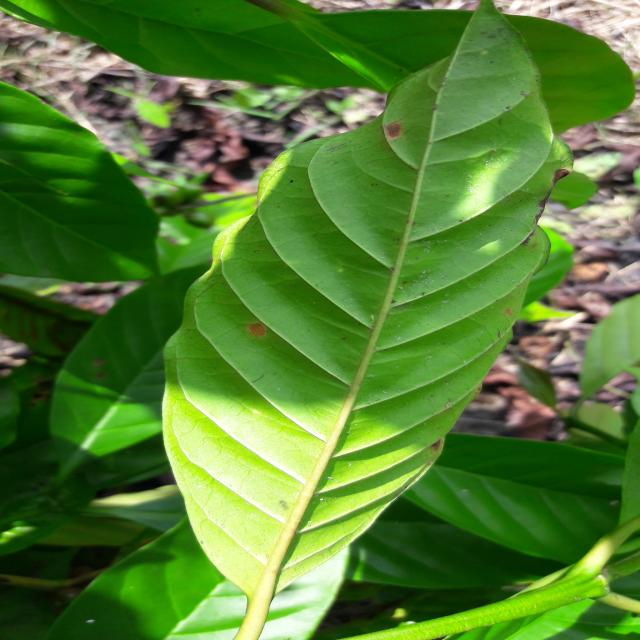Plaga-AranaRoja: (161, 0, 636, 640)
